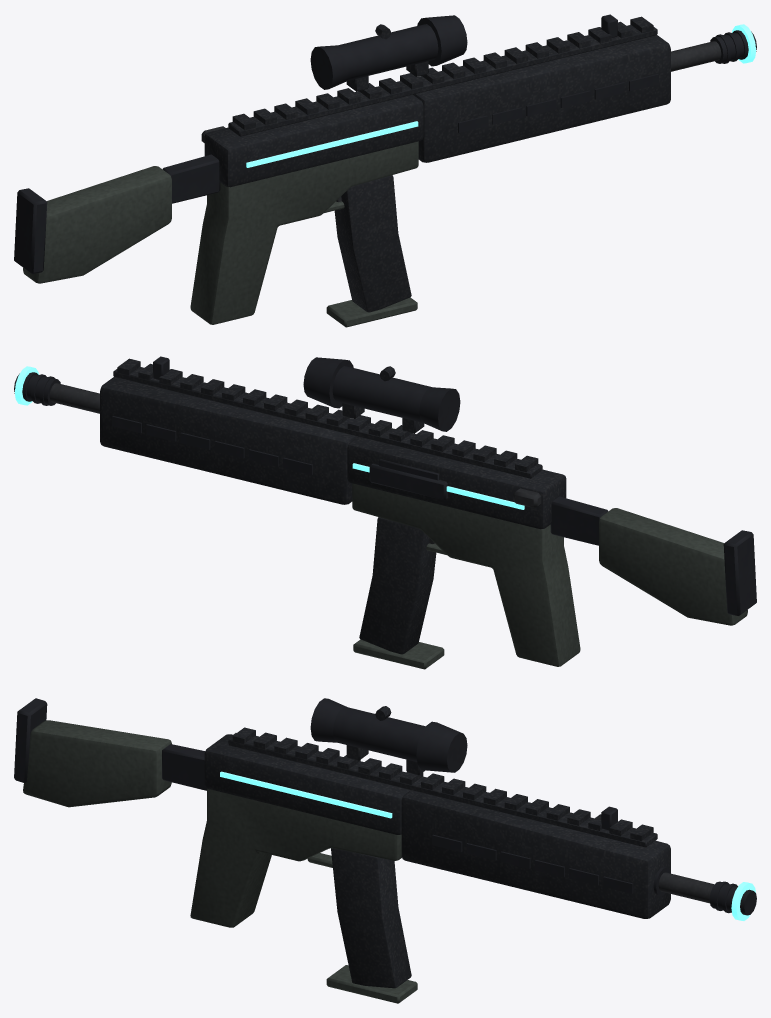
File: rifle_r2.fbx
The picture shows the model from 3 angles, top to bottom: view 1: azimuth 30°, elevation 25°; view 2: azimuth 150°, elevation 25°; view 3: azimuth 330°, elevation 25°; orthographic projection.
Visible parts, largest first — view 1: Body, Magazine, Glow; view 2: Body, Magazine, Bolt, Glow; view 3: Body, Magazine, Glow.
Boxes of the visible parts, left/top/right/bottom form: Body: left=14, top=14, right=756, bottom=324; Magazine: left=326, top=175, right=417, bottom=327; Glow: left=246, top=24, right=756, bottom=167; Body: left=14, top=356, right=756, bottom=666; Magazine: left=353, top=517, right=444, bottom=669; Bolt: left=369, top=459, right=541, bottom=508; Glow: left=14, top=366, right=524, bottom=509; Body: left=14, top=698, right=756, bottom=927; Magazine: left=326, top=848, right=417, bottom=1003; Glow: left=220, top=771, right=755, bottom=920.
Bounding box in the file's own units: 8.53 × 3.17 × 0.6275.
Materials: 2 (1 with a texture image).
